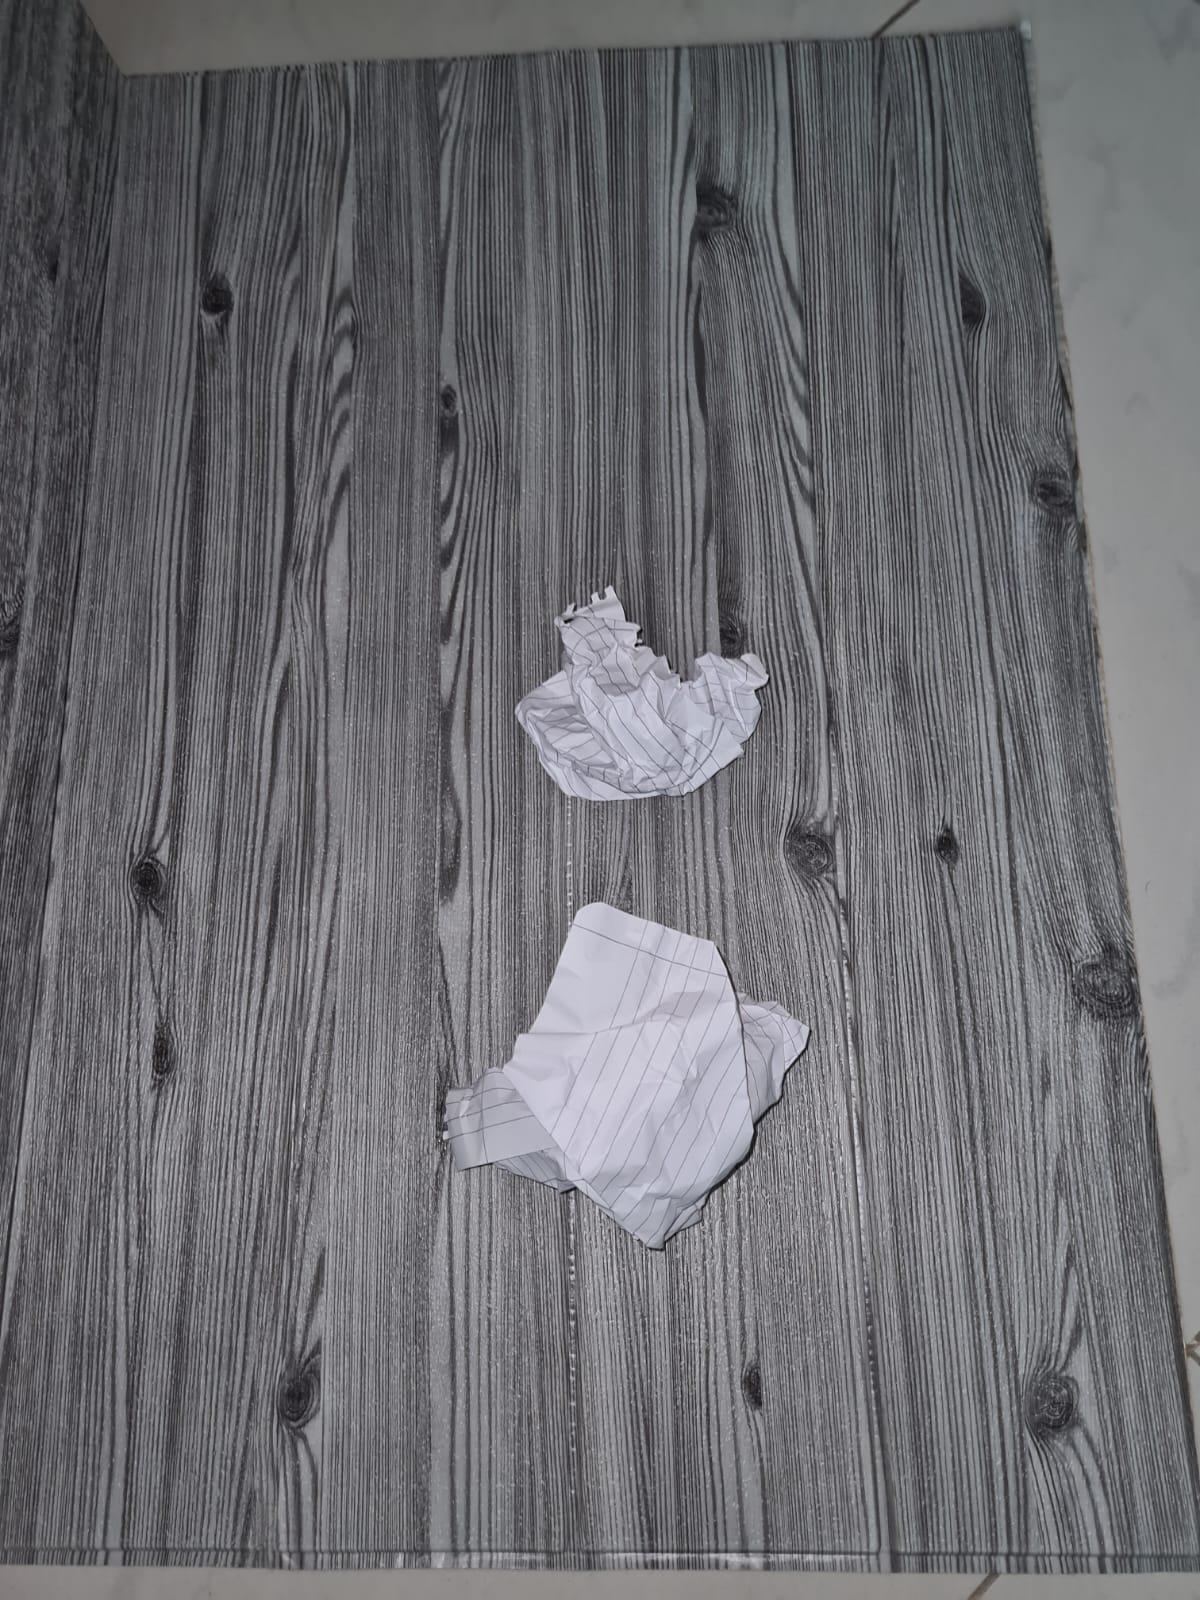Paper: (428, 907, 790, 1240), (501, 581, 773, 808)
